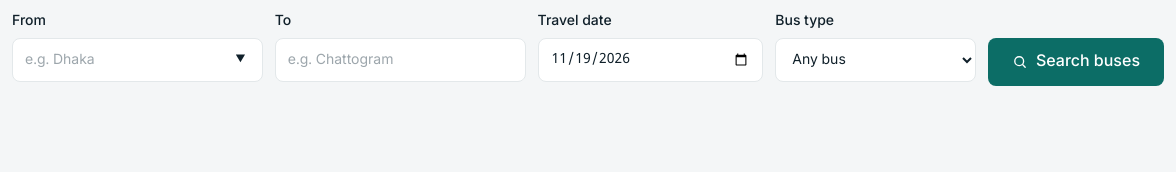
Test: SearchForm › requires both cities
Click the button "Search buses" at (1076, 62), box x1=988 y1=38 x2=1164 y2=86
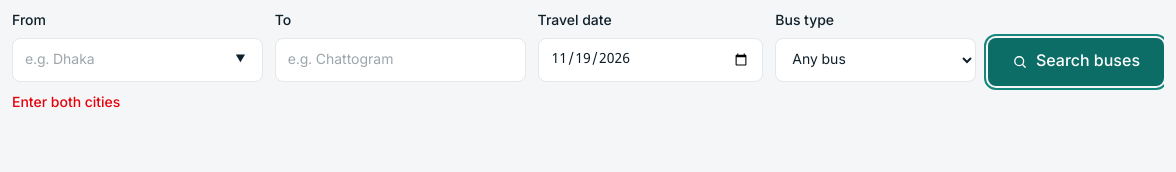
expect the text "Enter both cities" is shown: met, box x1=12 y1=94 x2=120 y2=113
